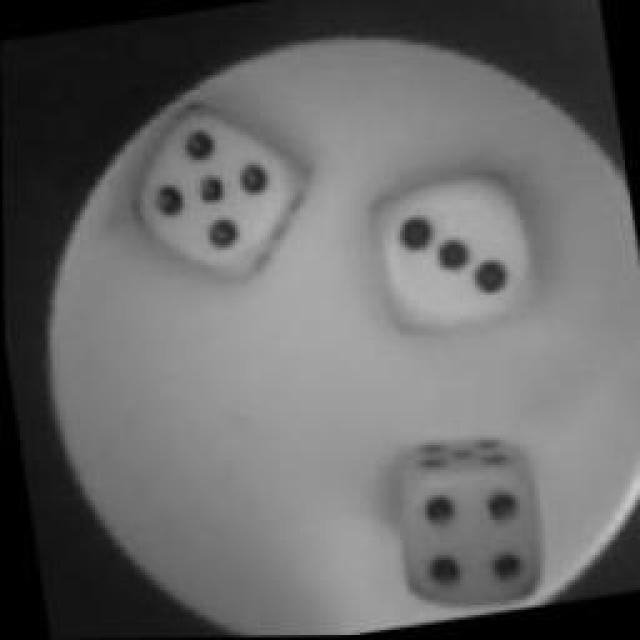dice_3: (360, 164, 542, 348)
dice_4: (381, 418, 564, 622)
dice_5: (123, 90, 325, 295)
